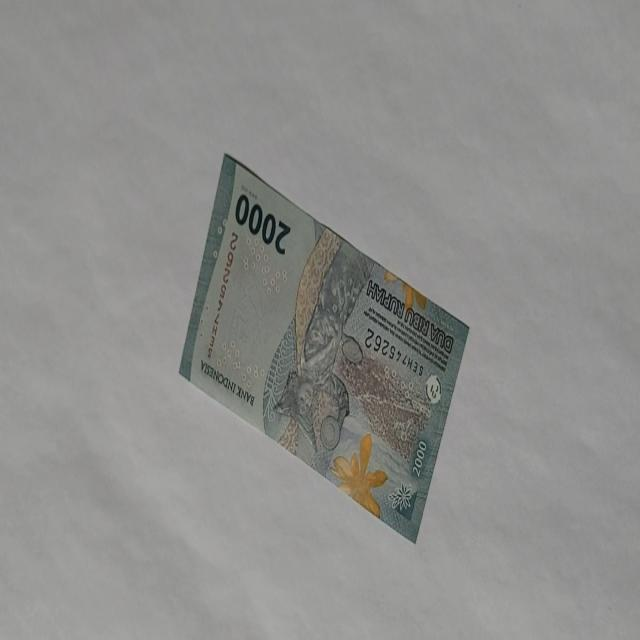dua ribu rupiah: (178, 151, 470, 544), (328, 431, 388, 519)
